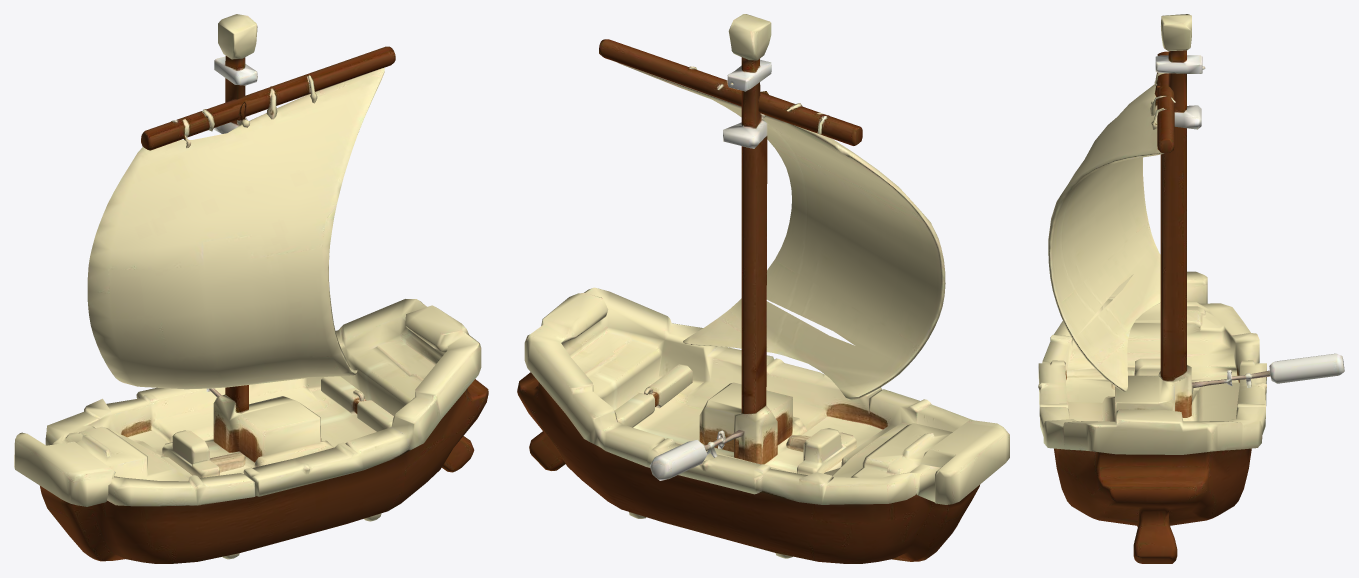
The model's file is sailboat.glb.
The picture shows the model from 3 angles, left to right: view 1: azimuth 30°, elevation 25°; view 2: azimuth 150°, elevation 25°; view 3: azimuth 270°, elevation 25°; orthographic projection. The views are drawn at different scales.
Parts seen in each view (by area): view 1: prop-sailboat.glb; view 2: prop-sailboat.glb; view 3: prop-sailboat.glb.
Boxes of the visible parts, box(x1,y1,x2,y2) form: prop-sailboat.glb: box(14, 14, 488, 563); prop-sailboat.glb: box(517, 14, 1009, 563); prop-sailboat.glb: box(1038, 14, 1344, 563).
Bounding box in the file's own units: 0.8999 × 0.9995 × 0.5923.
Materials: 1 (1 with a texture image).
